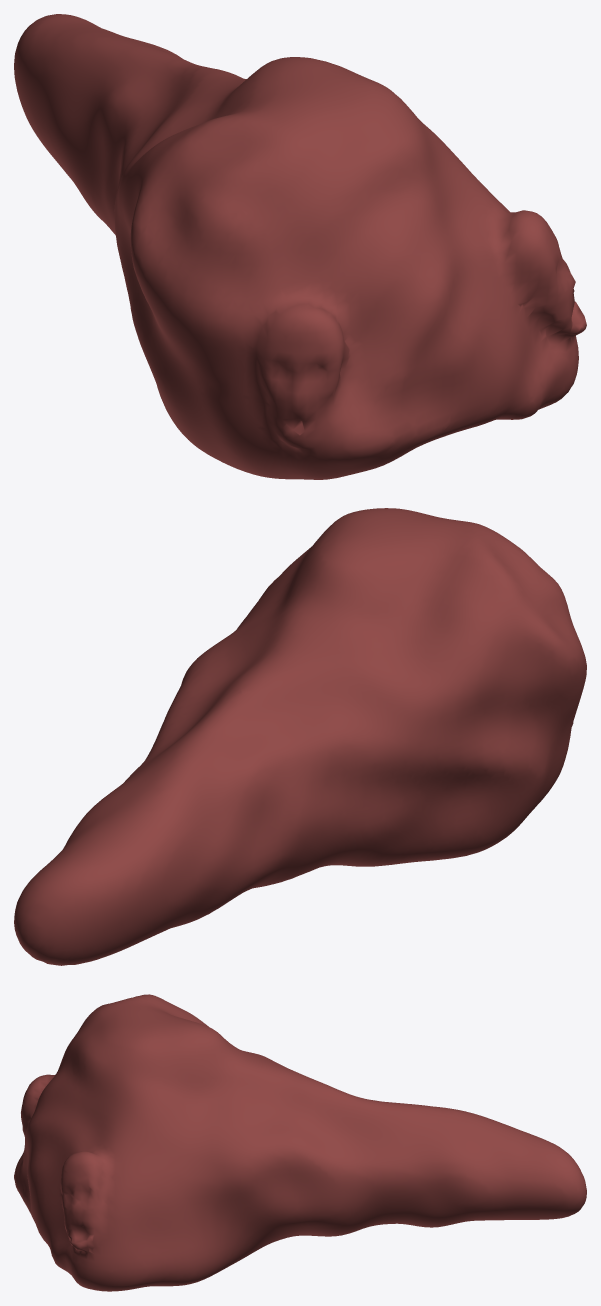
Rendered from SlitherNoHead.fbx.
The picture shows the model from 3 angles, top to bottom: view 1: azimuth 30°, elevation 25°; view 2: azimuth 150°, elevation 25°; view 3: azimuth 270°, elevation 25°; orthographic projection. The views are drawn at different scales.
Parts seen in each view (by area): view 1: Sphere; view 2: Sphere; view 3: Sphere.
Boxes of the visible parts, x1=… form: Sphere: x1=14, y1=14, x2=586, y2=479; Sphere: x1=14, y1=508, x2=586, y2=965; Sphere: x1=14, y1=994, x2=586, y2=1291.
Size of the model in its own units: 745 by 598 by 1391.
